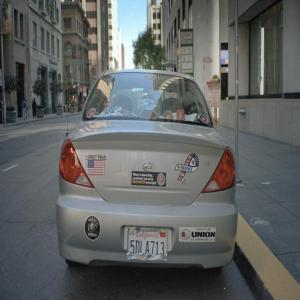Vehicle-registration-plate: (126, 228, 168, 264)
